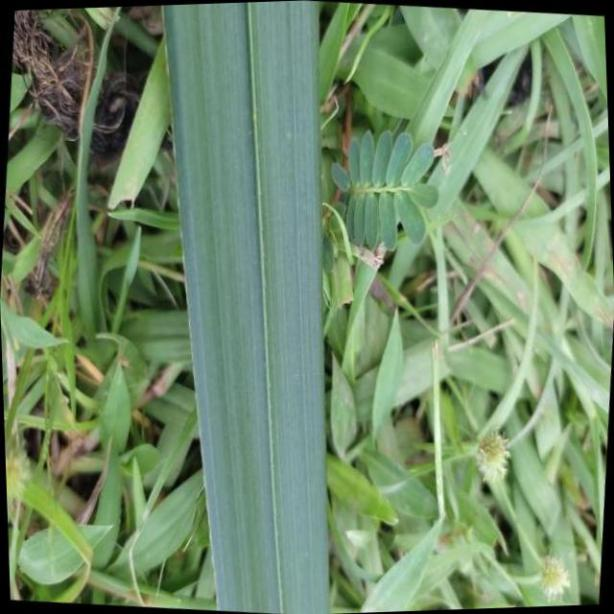Healthy: (164, 0, 332, 614)
